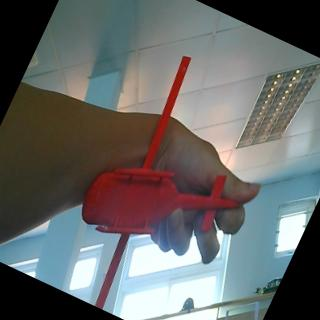Helicopter: (42, 37, 275, 320)
